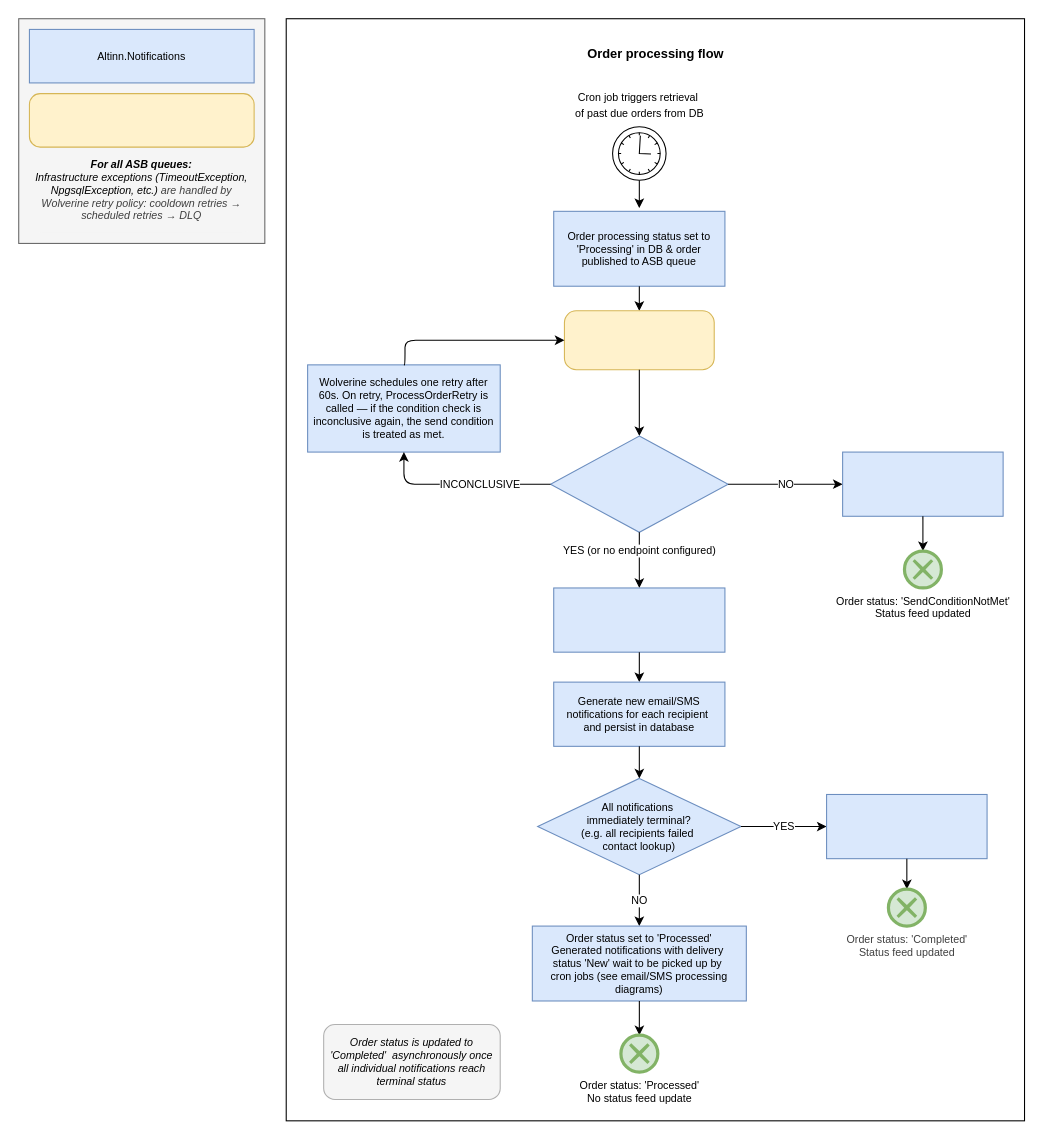
The diagram is 1043 pixels wide and 1140 high, and some of its shapes have lost their labels. Each missing label, with the box of its shape:
altinn.notifications. orders.pastdue: (563, 310, 714, 370)
Azure Service Bus queue: (28, 93, 254, 147)
Look up contact points for recipients: (553, 587, 725, 652)
Order processing status set to 'Completed': (826, 793, 987, 859)
Order processing status set to 'SendConditionNotMet': (842, 451, 1003, 516)
Send condition met?: (549, 435, 728, 532)
